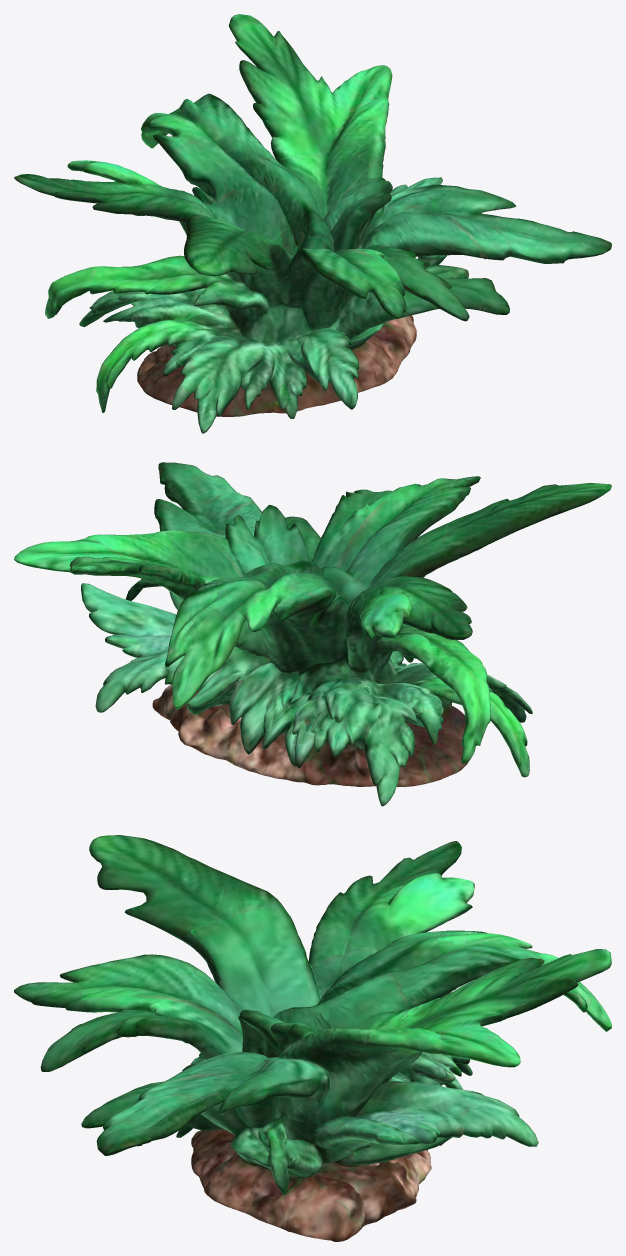
File: brush.glb
3 renders of one model, top to bottom at view 1: azimuth 30°, elevation 25°; view 2: azimuth 150°, elevation 25°; view 3: azimuth 270°, elevation 25°, orthographic. The views are drawn at different scales.
Size of the model in its own units: 1.82 by 0.9119 by 1.9.
1 material, 1 textured.
